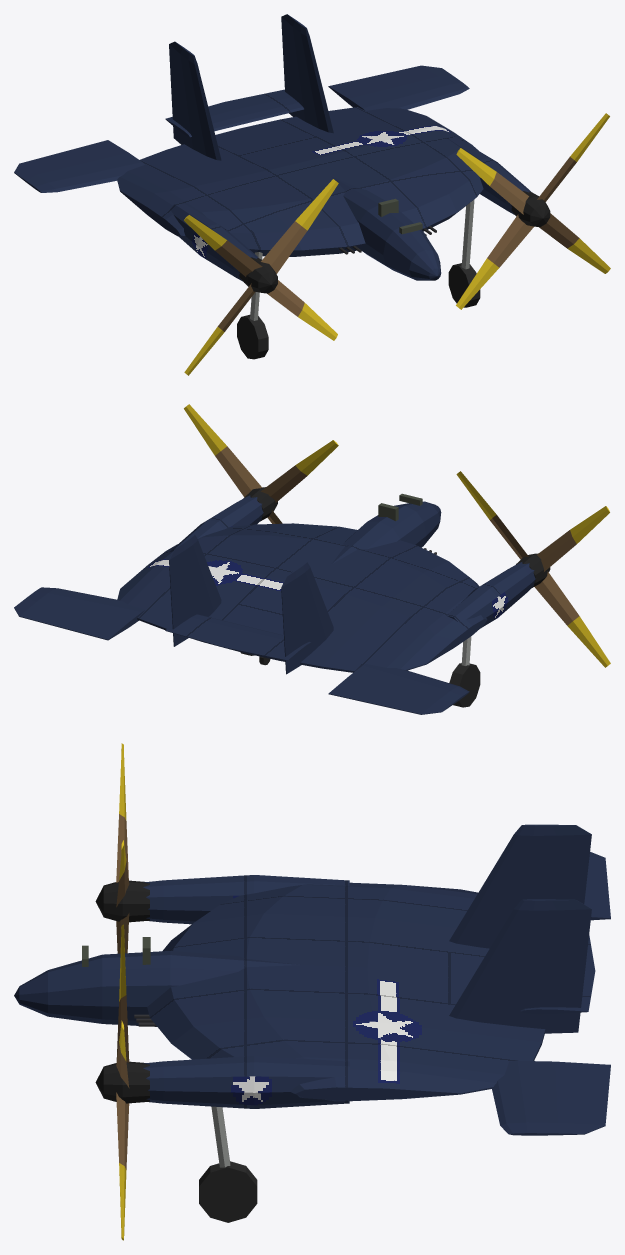
3 renders of one model, top to bottom at view 1: azimuth 30°, elevation 25°; view 2: azimuth 150°, elevation 25°; view 3: azimuth 270°, elevation 25°, orthographic. The views are drawn at different scales.
Parts seen in each view (by area): view 1: wing, tail, $propeller_l, $propeller_r, $ailavator_r, $ailavator_l, $gear_r, $gear_l; view 2: wing, tail, $ailavator_r, $propeller_r, $ailavator_l, $propeller_l, $gear_r; view 3: wing, tail, $ailavator_l, $propeller_l, $gear_l, $propeller_r, $ailavator_r.
Boxes of the visible parts, left/top/right/bottom form: wing: left=117, top=107, right=530, bottom=281; tail: left=165, top=14, right=333, bottom=160; $propeller_l: left=456, top=113, right=610, bottom=309; $propeller_r: left=184, top=179, right=338, bottom=375; $ailavator_r: left=14, top=140, right=144, bottom=192; $ailavator_l: left=328, top=65, right=469, bottom=110; $gear_r: left=237, top=252, right=268, bottom=359; $gear_l: left=448, top=199, right=480, bottom=307; wing: left=117, top=493, right=535, bottom=672; tail: left=165, top=534, right=333, bottom=674; $ailavator_r: left=328, top=664, right=469, bottom=714; $propeller_r: left=456, top=471, right=610, bottom=667; $ailavator_l: left=14, top=587, right=144, bottom=640; $propeller_l: left=184, top=404, right=338, bottom=523; $gear_r: left=449, top=636, right=480, bottom=707; wing: left=14, top=875, right=545, bottom=1108; tail: left=449, top=824, right=595, bottom=1033; $ailavator_l: left=491, top=1060, right=610, bottom=1135; $propeller_l: left=95, top=924, right=149, bottom=1240; $gear_l: left=199, top=1106, right=257, bottom=1222; $propeller_r: left=95, top=743, right=149, bottom=953; $ailavator_r: left=584, top=851, right=610, bottom=920.
Size of the model in its own units: 9.91 by 4.65 by 8.78.
Materials: 1 (1 with a texture image).
